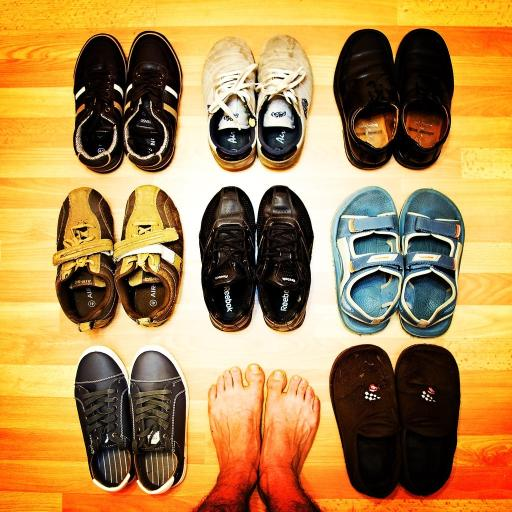shoe: (330, 344, 400, 498), (395, 344, 461, 496), (114, 184, 184, 326), (333, 29, 399, 169), (53, 187, 117, 331), (74, 346, 134, 492), (130, 346, 189, 494), (394, 28, 454, 170), (256, 185, 314, 331), (199, 186, 256, 332), (124, 31, 182, 171), (257, 34, 313, 170), (202, 36, 256, 170), (74, 34, 126, 172)
